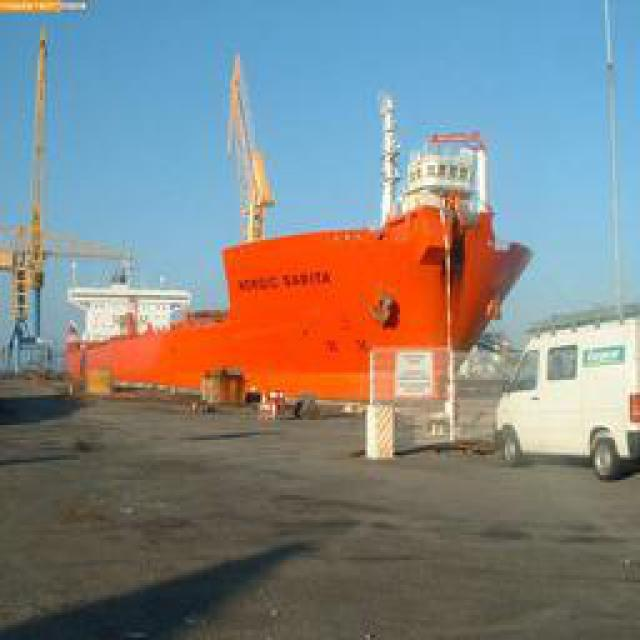Ship: (52, 113, 552, 421)
